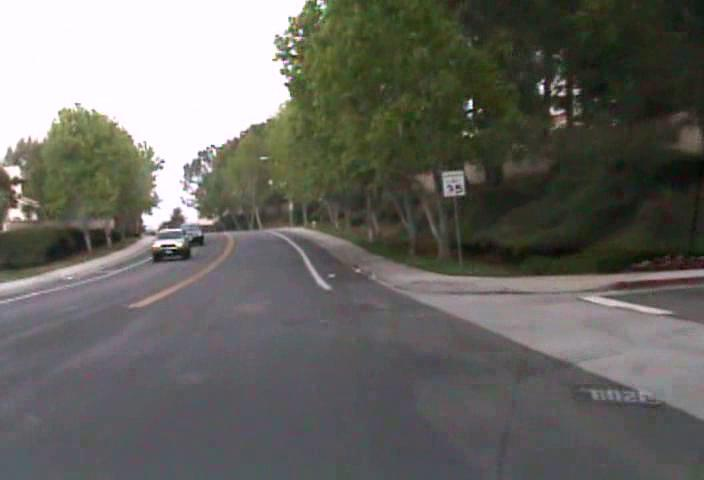speedLimit35: (441, 169, 466, 197)
